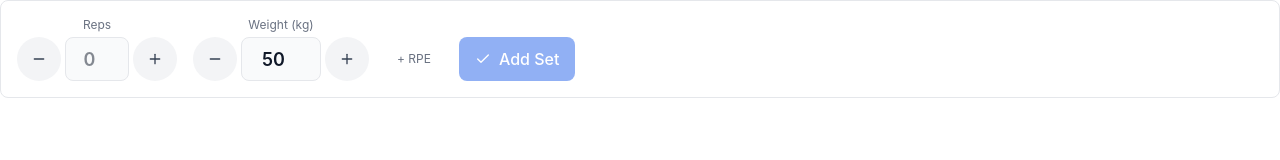
Test case: SetInput › should increment weight by 2.5 when using kg
The image size is (1280, 160).
Step 1. Click the button named "Increase weight" → x=347, y=59, box [325,37,369,81]
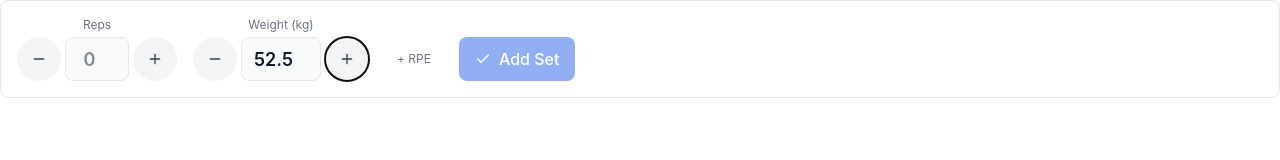
Check: the number field named "Weight" holds "52.5", box [241,37,321,81]
